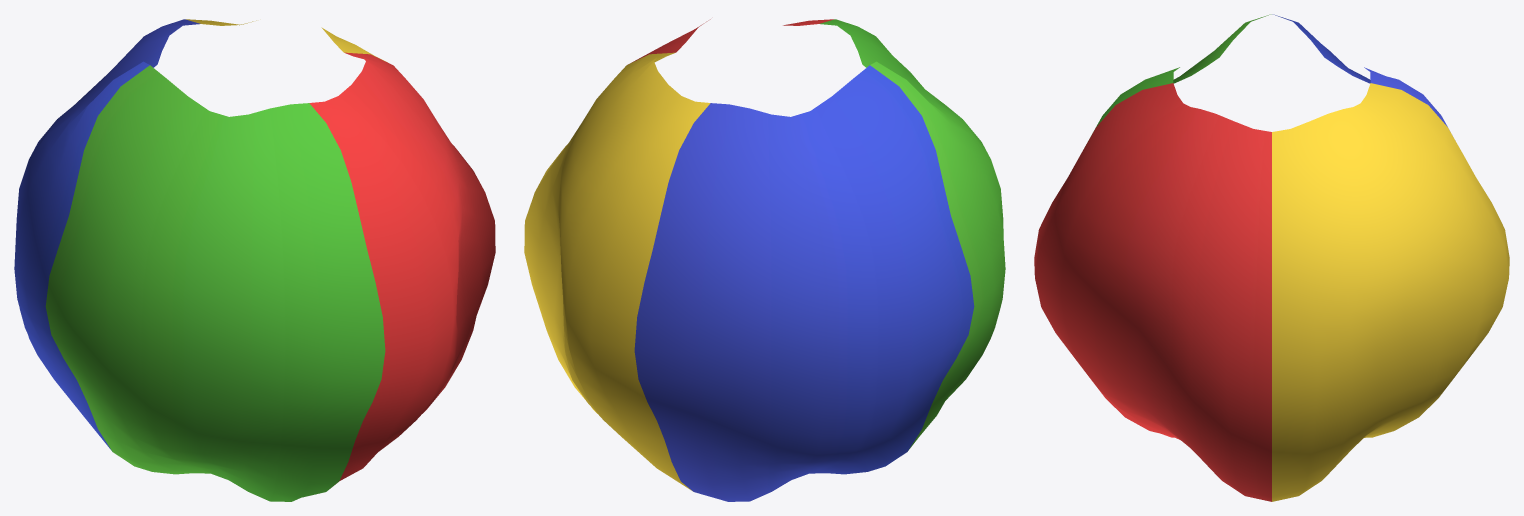
Rendered from scan-atlas.glb.
The picture shows the model from 3 angles, left to right: view 1: azimuth 30°, elevation 25°; view 2: azimuth 150°, elevation 25°; view 3: azimuth 270°, elevation 25°; orthographic projection. The views are drawn at different scales.
Visible parts, largest first — view 1: Scan; view 2: Scan; view 3: Scan.
Part boxes in pixels (x1,y1,x2,y2): Scan: (14, 19, 495, 501); Scan: (524, 19, 1005, 501); Scan: (1034, 14, 1509, 501).
Size of the model in its own units: 1.07 by 0.9863 by 1.1.
Materials: 1 (1 with a texture image).
